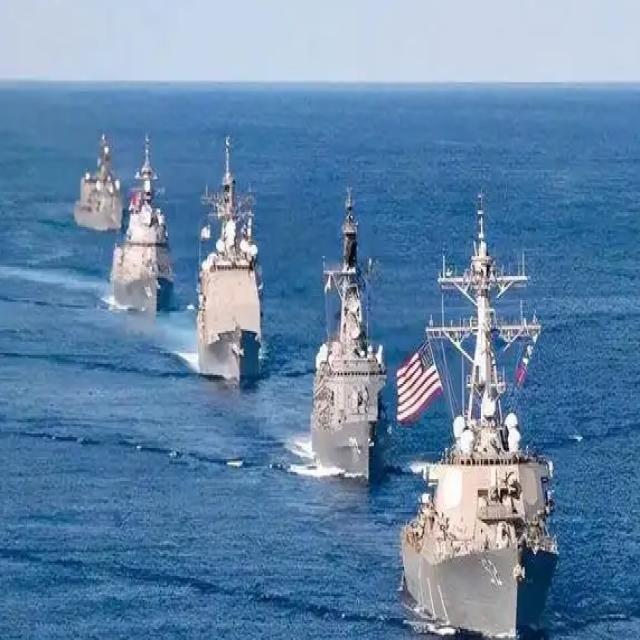navalvessels: (396, 183, 563, 640), (306, 184, 388, 485), (193, 135, 268, 388), (111, 133, 175, 318), (72, 128, 126, 232)
